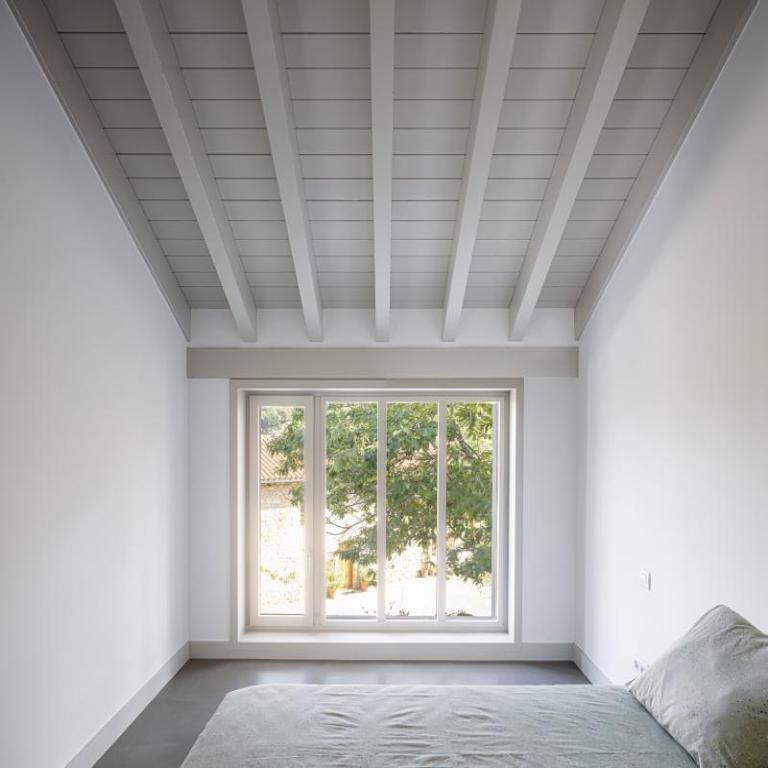white-walls: (533, 42, 765, 661)
